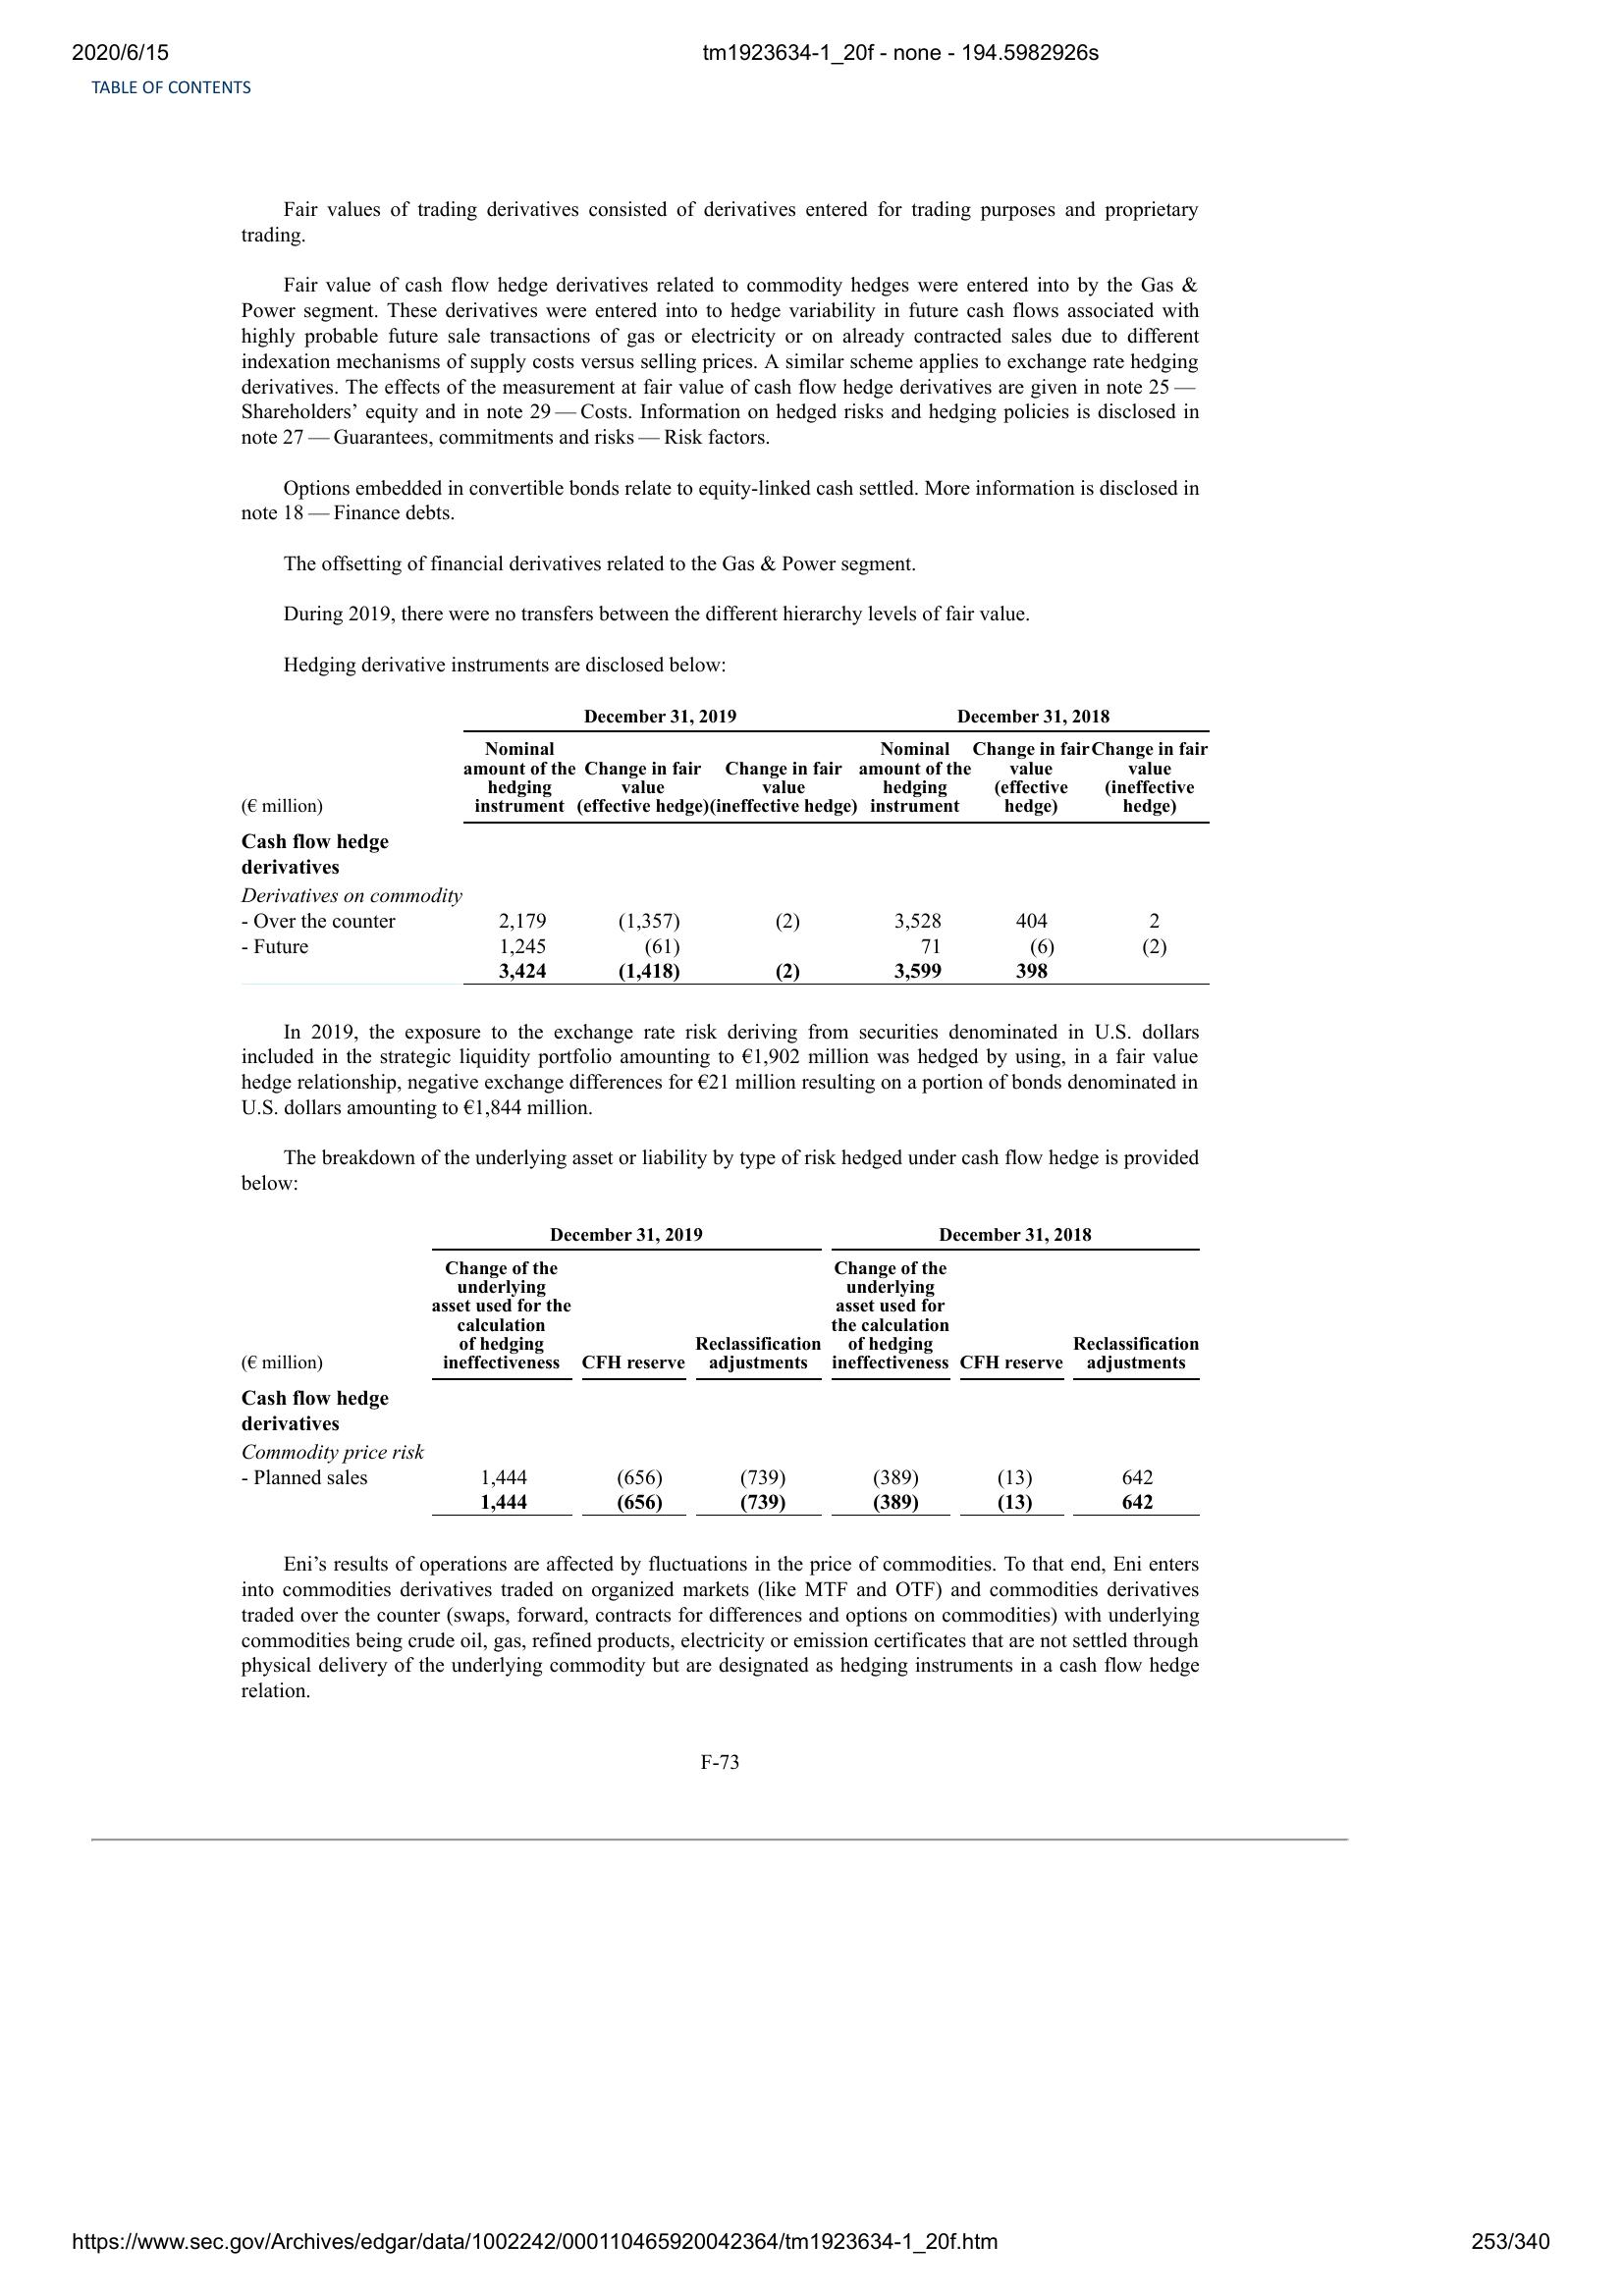table: (237, 1225, 1210, 1529), (232, 697, 1223, 992)
